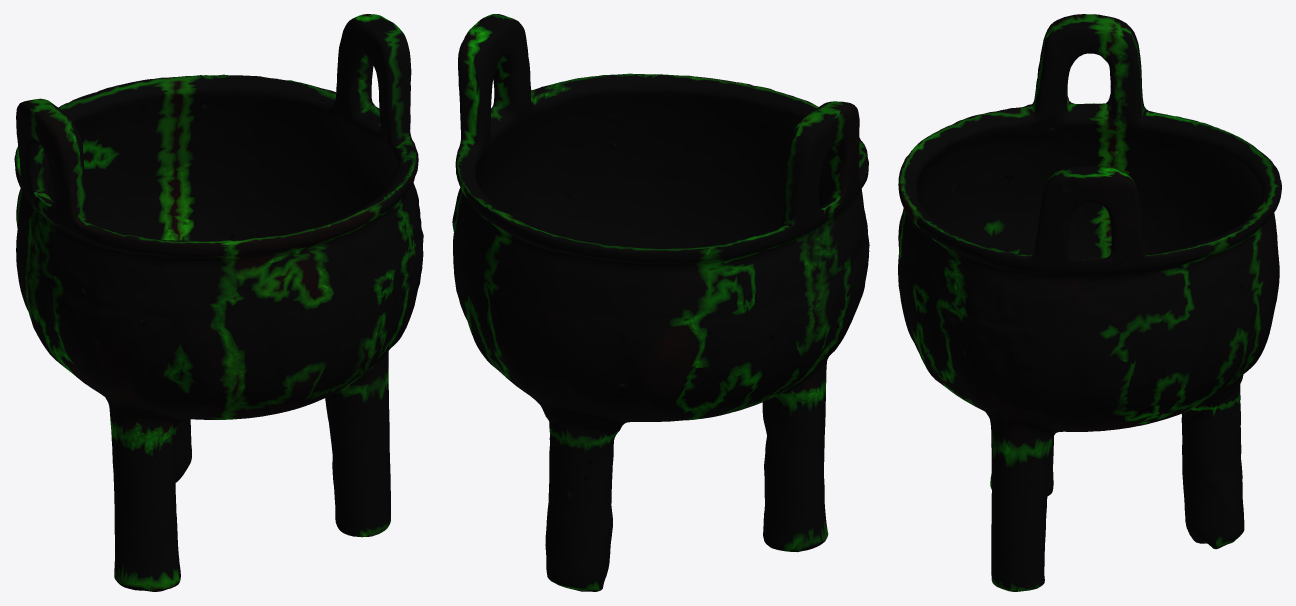
3 views of the same model, side by side, from view 1: azimuth 30°, elevation 25°; view 2: azimuth 150°, elevation 25°; view 3: azimuth 270°, elevation 25° (orthographic). The views are drawn at different scales.
Parts seen in each view (by area): view 1: ding_shang; view 2: ding_shang; view 3: ding_shang.
Boxes of the visible parts, x1,y1,x2,y2 form: ding_shang: (14,14,423,591); ding_shang: (452,14,869,591); ding_shang: (898,14,1281,591).
Size of the model in its own units: 0.2717 by 0.3391 by 0.265.
Materials: 1 (1 with a texture image).
